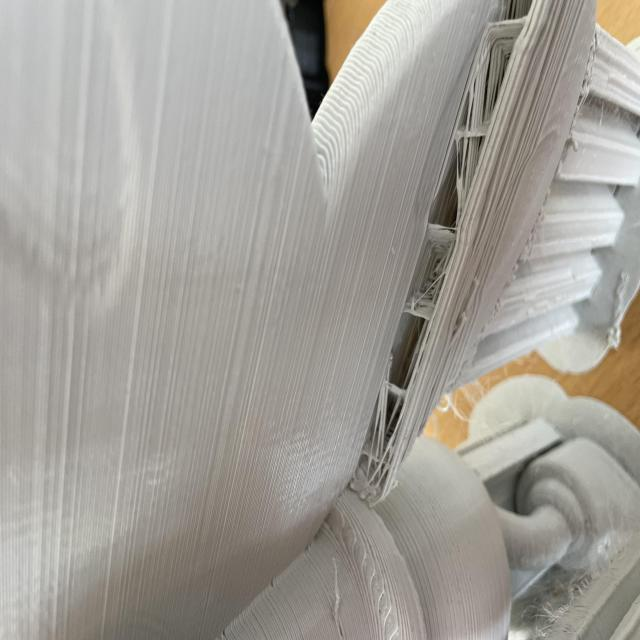Stringing: (0, 1, 640, 640), (340, 5, 538, 512)
